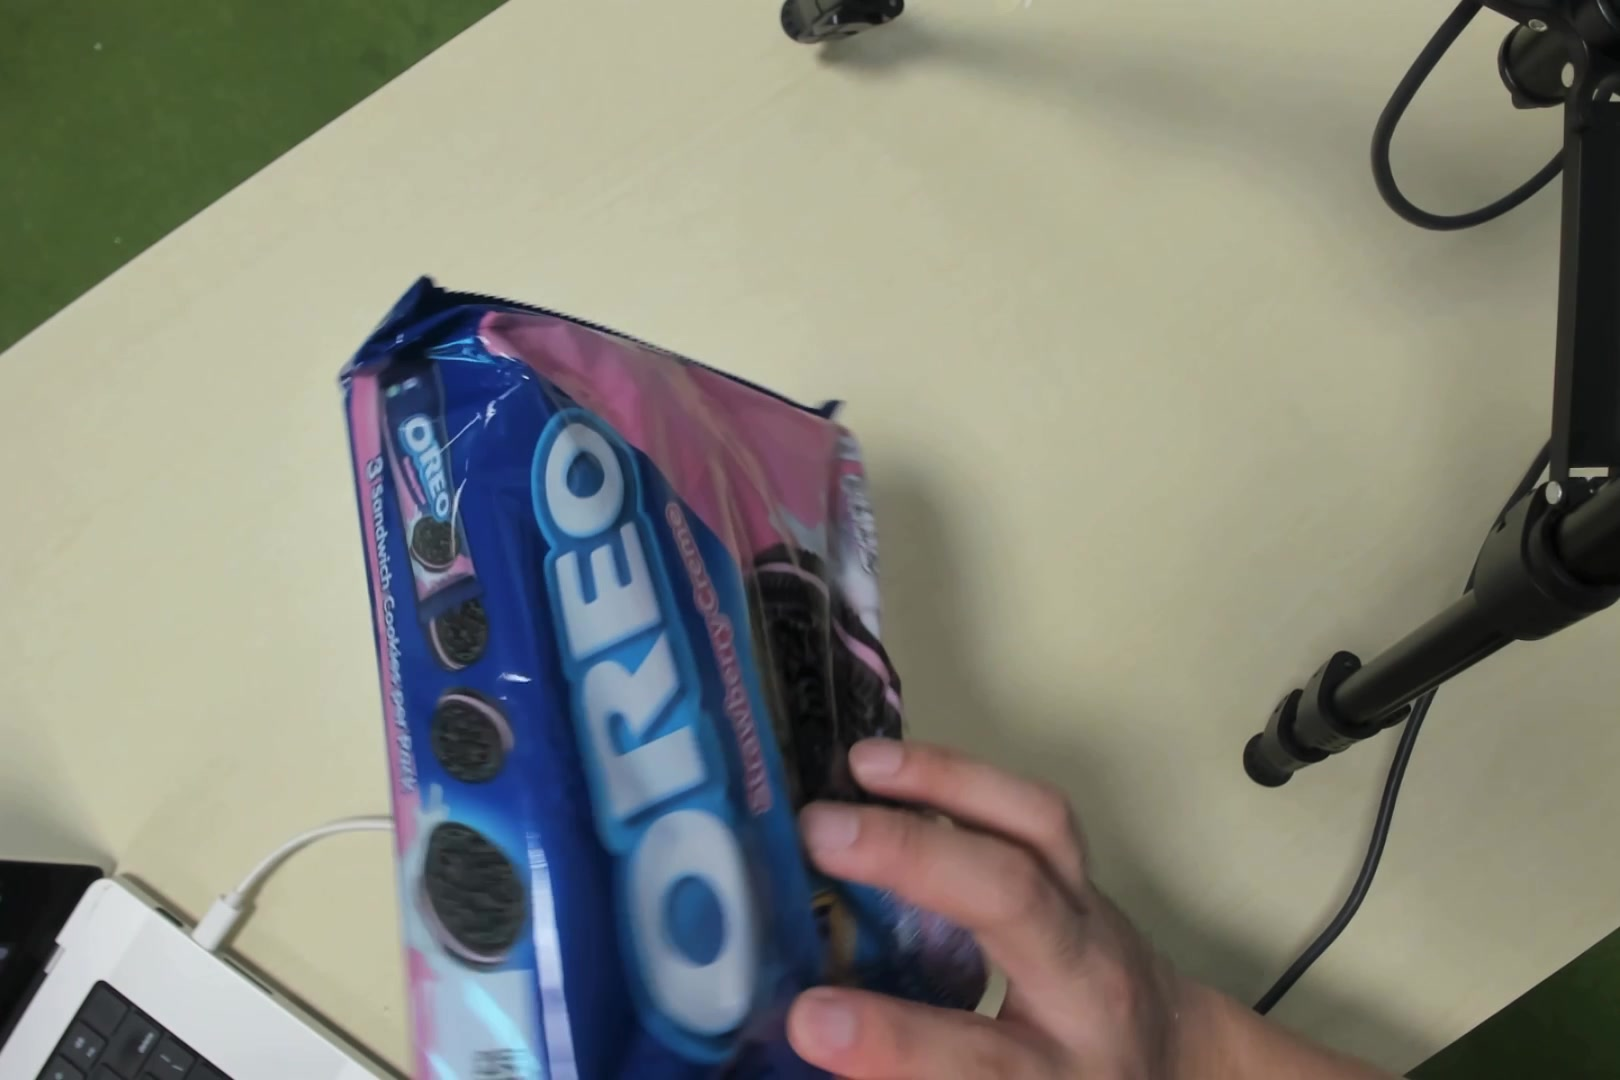SweetsChocolatesOthers_200-299g_Halal_NonHealthy: (365, 272, 927, 1026)
